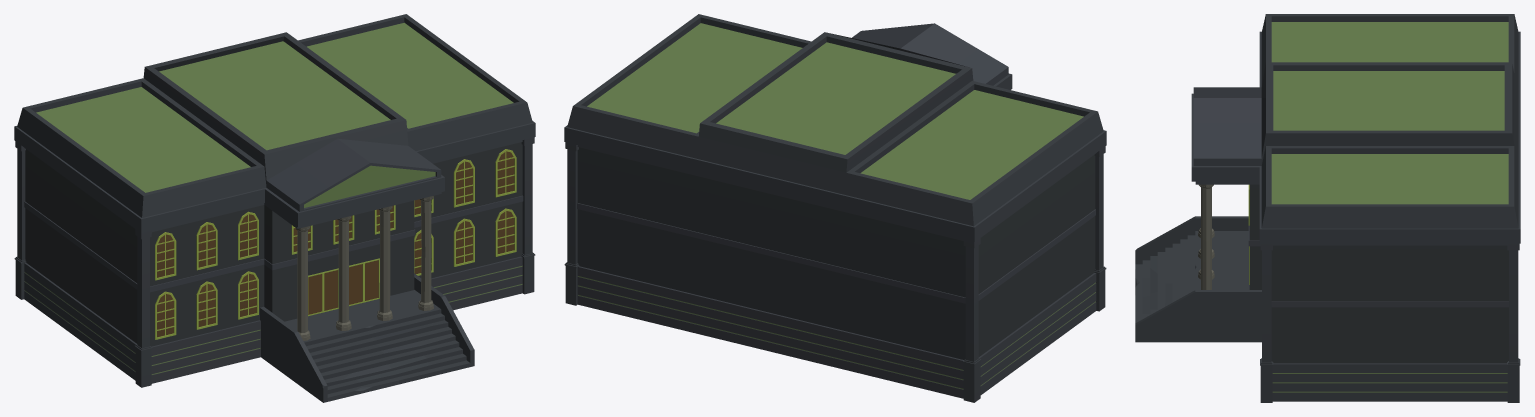
File: CityHall_01.fbx
3 views of the same model, side by side, from view 1: azimuth 30°, elevation 25°; view 2: azimuth 150°, elevation 25°; view 3: azimuth 270°, elevation 25° (orthographic). The views are drawn at different scales.
Visible parts, largest first — view 1: CityHall_01; view 2: CityHall_01; view 3: CityHall_01.
Part boxes in pixels (x1,y1,x2,y2): CityHall_01: [14, 14, 535, 402]; CityHall_01: [564, 14, 1106, 402]; CityHall_01: [1135, 14, 1520, 402].
Size of the model in its own units: 22.6 by 11 by 18.6.
